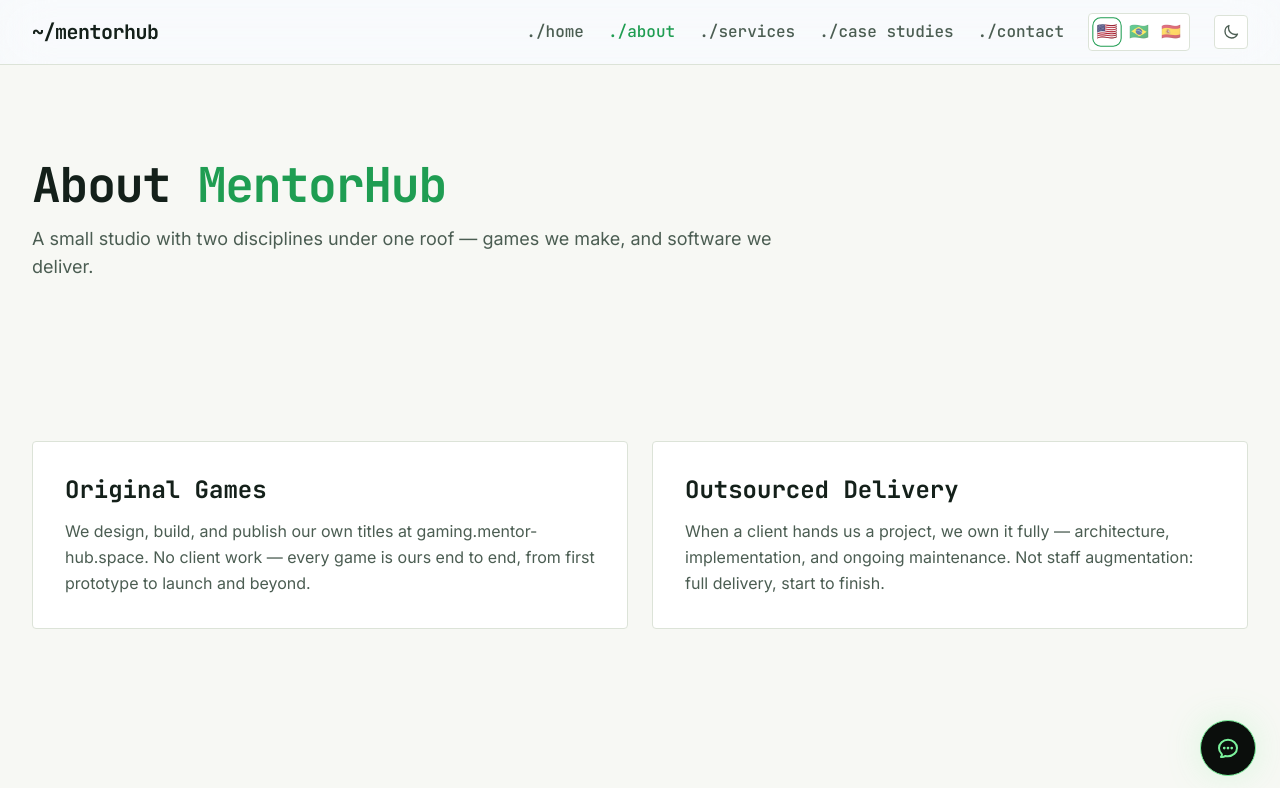
Test: site navigation › returns to Home via the logo
Click the link "~/mentorhub".
click(95, 32)  # box [32,18,158,46]
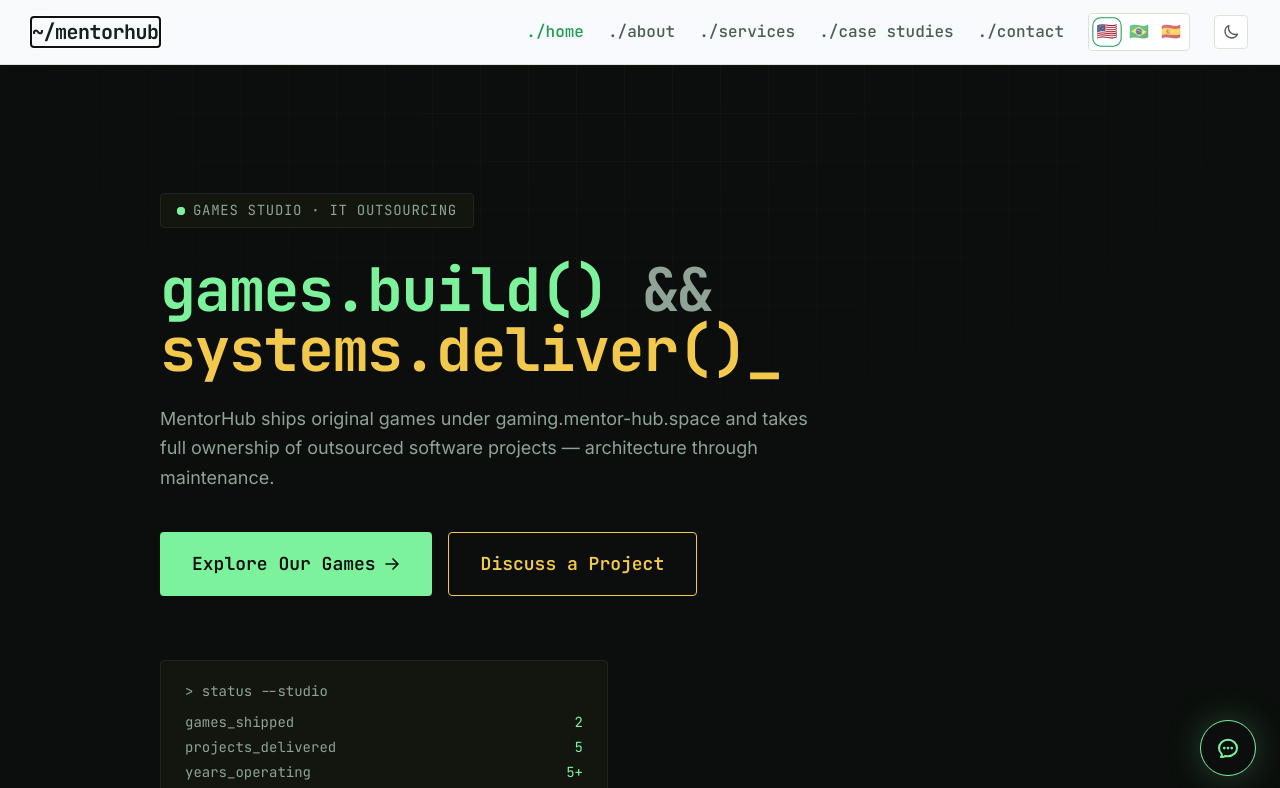
Expected: the text "GAMES STUDIO · IT OUTSOURCING" is shown, [160,193,474,228]
